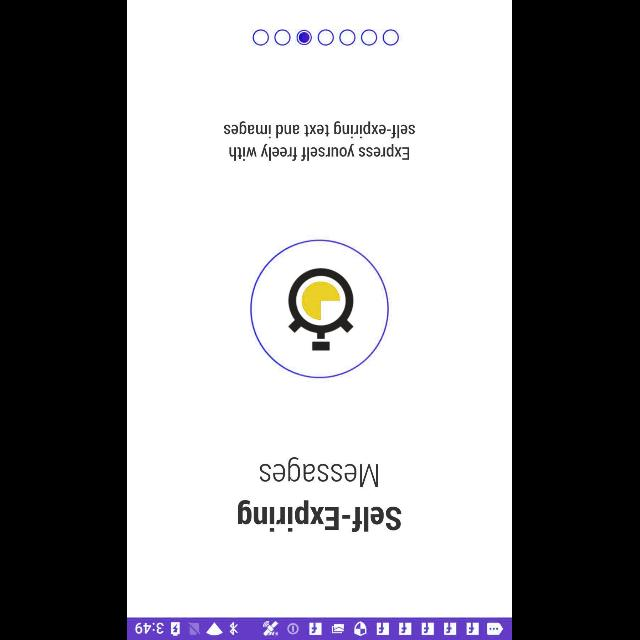image: (250, 239, 390, 379)
pageindicator: (252, 29, 400, 47)
text: (224, 120, 416, 162), (238, 498, 402, 532), (259, 456, 379, 488)
uppertaskbar: (128, 617, 512, 639)
